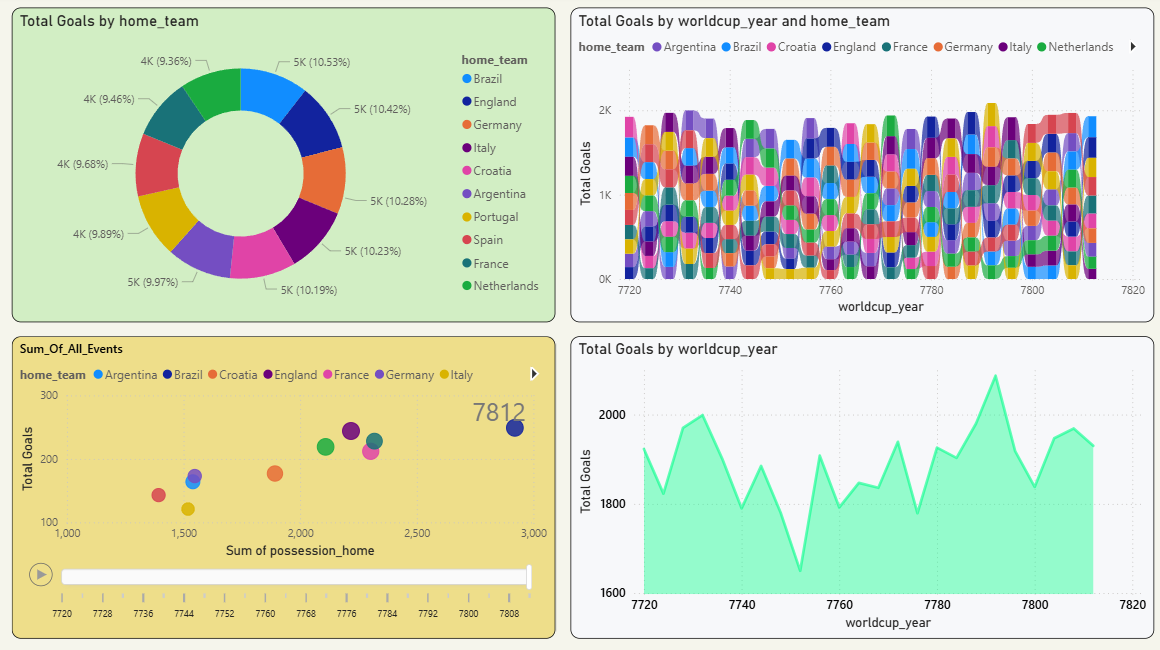

The page's visual inventory and layout, read from the dashboard file:
{"tool":"powerbi","page":{"name":"Page 3","canvas":[1280,720],"ordinal":2},"visuals":[{"type":"scatterChart","title":"Sum_Of_All_Events","fields":{"X":["Sum(fifa_worldcup clean_fifa_data.possession_home)"],"Y":["fifa_worldcup clean_fifa_data.Total Goals"],"Series":["fifa_worldcup clean_fifa_data.home_team"],"Size":["Sum(fifa_worldcup clean_fifa_data.attendance)"],"Play":["fifa_worldcup clean_fifa_data.worldcup_year"]},"box":[15.1,374.6,596.9,332.1],"z":0},{"type":"donutChart","fields":{"Category":["fifa_worldcup clean_fifa_data.home_team"],"Y":["fifa_worldcup clean_fifa_data.Total Goals"]},"box":[15.1,13.7,596.9,345.8],"z":1000},{"type":"ribbonChart","fields":{"Category":["fifa_worldcup clean_fifa_data.worldcup_year"],"Y":["fifa_worldcup clean_fifa_data.Total Goals"],"Series":["fifa_worldcup clean_fifa_data.home_team"]},"box":[628.5,13.7,640.8,345.8],"z":2000},{"type":"areaChart","fields":{"Category":["fifa_worldcup clean_fifa_data.worldcup_year"],"Y":["fifa_worldcup clean_fifa_data.Total Goals"]},"box":[628,375,641,332],"z":3000}]}

Visuals, with their boxes in screenshot pixels (x1, y1, x2, y2), scaled from the page's 1280x720 canvas onto the 1160x650 screenshot:
"Sum_Of_All_Events" scatterChart: pyautogui.locateOnScreen(14, 338, 555, 638)
donutChart - fifa_worldcup clean_fifa_data.home_team x fifa_worldcup clean_fifa_data.Total Goals: pyautogui.locateOnScreen(14, 12, 555, 325)
ribbonChart - fifa_worldcup clean_fifa_data.worldcup_year x fifa_worldcup clean_fifa_data.Total Goals: pyautogui.locateOnScreen(570, 12, 1150, 325)
areaChart - fifa_worldcup clean_fifa_data.worldcup_year x fifa_worldcup clean_fifa_data.Total Goals: pyautogui.locateOnScreen(569, 339, 1150, 638)
